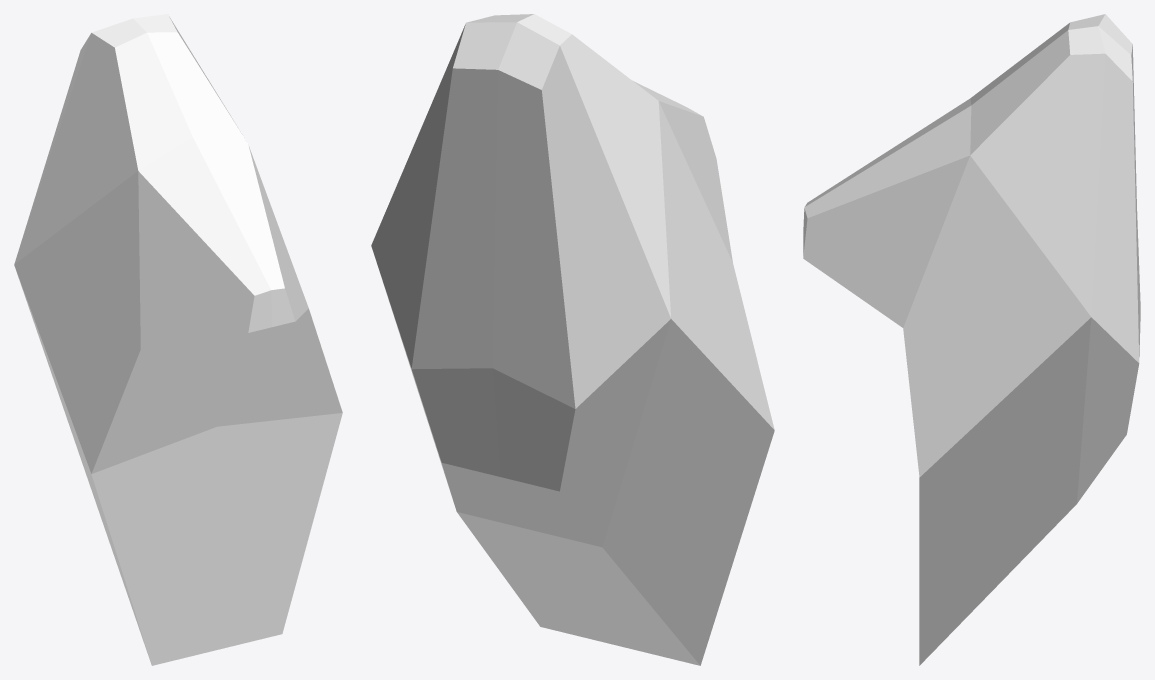
Rendered from head_6.fbx.
The picture shows the model from 3 angles, left to right: view 1: azimuth 30°, elevation 25°; view 2: azimuth 150°, elevation 25°; view 3: azimuth 270°, elevation 25°; orthographic projection. The views are drawn at different scales.
Parts seen in each view (by area): view 1: Cube.125; view 2: Cube.125; view 3: Cube.125.
Boxes of the visible parts, x1,y1,x2,y2 form: Cube.125: [14, 14, 342, 665]; Cube.125: [371, 14, 774, 665]; Cube.125: [803, 14, 1140, 665].
Size of the model in its own units: 14.3 by 30.98 by 15.64.
